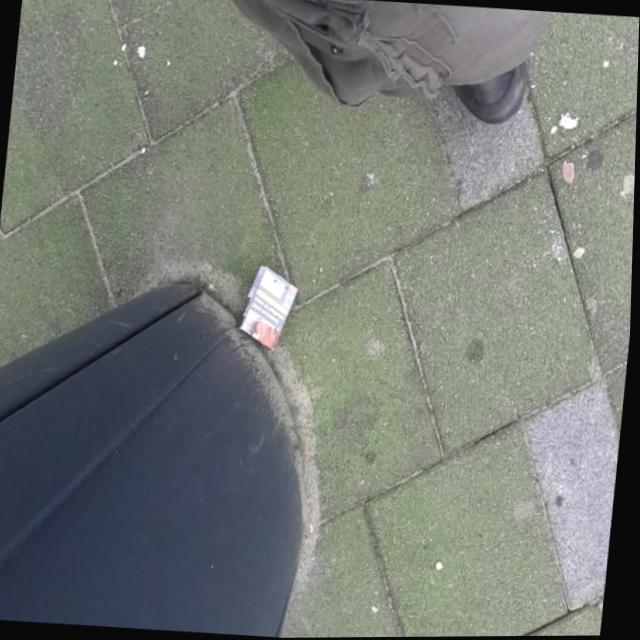Paper: (233, 260, 308, 354)
